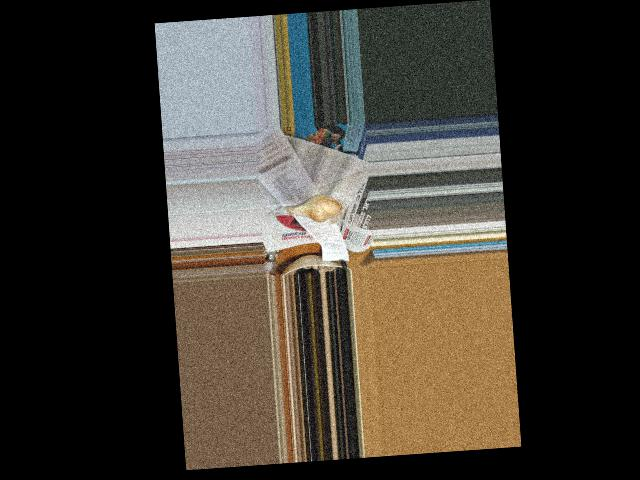onion: (292, 194, 341, 223)
